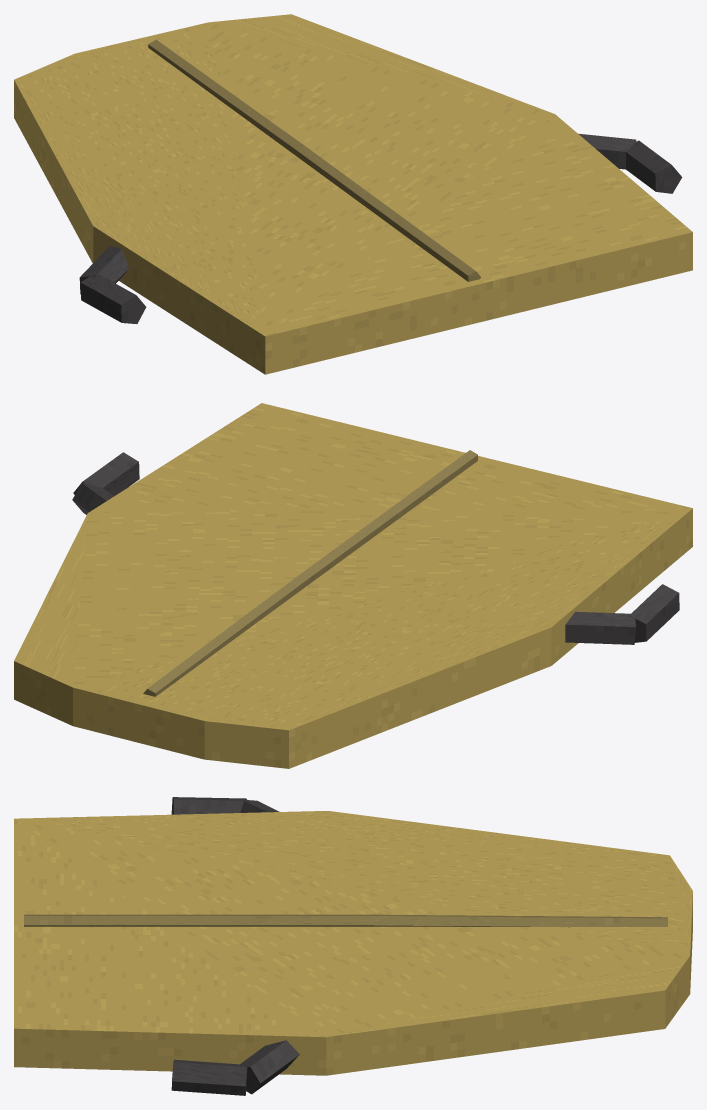
The model's file is rubber_harness_dog.glb.
3 renders of one model, top to bottom at view 1: azimuth 30°, elevation 25°; view 2: azimuth 150°, elevation 25°; view 3: azimuth 270°, elevation 25°, orthographic.
Parts seen in each view (by area): view 1: block_dog rain cover, block_belly fastening strap 1 (×2), block_welded spine seam 1, block_welded spine seam 0, block_belly fastening strap 0 (×2); view 2: block_dog rain cover, block_belly fastening strap 1 (×2), block_welded spine seam 1, block_belly fastening strap 0 (×2), block_welded spine seam 0; view 3: block_dog rain cover, block_welded spine seam 1, block_belly fastening strap 1 (×2), block_welded spine seam 0, block_belly fastening strap 0.
Boxes of the visible parts, x1,y1,x2,y2 form: block_dog rain cover: [14, 14, 692, 374]; block_belly fastening strap 1 (×2): [80, 140, 682, 323]; block_welded spine seam 1: [294, 144, 480, 281]; block_welded spine seam 0: [148, 39, 301, 154]; block_belly fastening strap 0 (×2): [79, 133, 636, 294]; block_dog rain cover: [14, 403, 692, 768]; block_belly fastening strap 1 (×2): [73, 452, 679, 642]; block_welded spine seam 1: [295, 450, 477, 588]; block_belly fastening strap 0 (×2): [72, 483, 635, 644]; block_welded spine seam 0: [143, 578, 302, 696]; block_dog rain cover: [14, 811, 692, 1075]; block_welded spine seam 1: [24, 914, 374, 926]; block_belly fastening strap 1 (×2): [171, 797, 247, 1095]; block_welded spine seam 0: [374, 914, 667, 927]; block_belly fastening strap 0: [240, 1040, 299, 1094].
Size of the model in its own units: 0.4577 by 0.0362 by 0.4705.
1 material, 1 textured.
